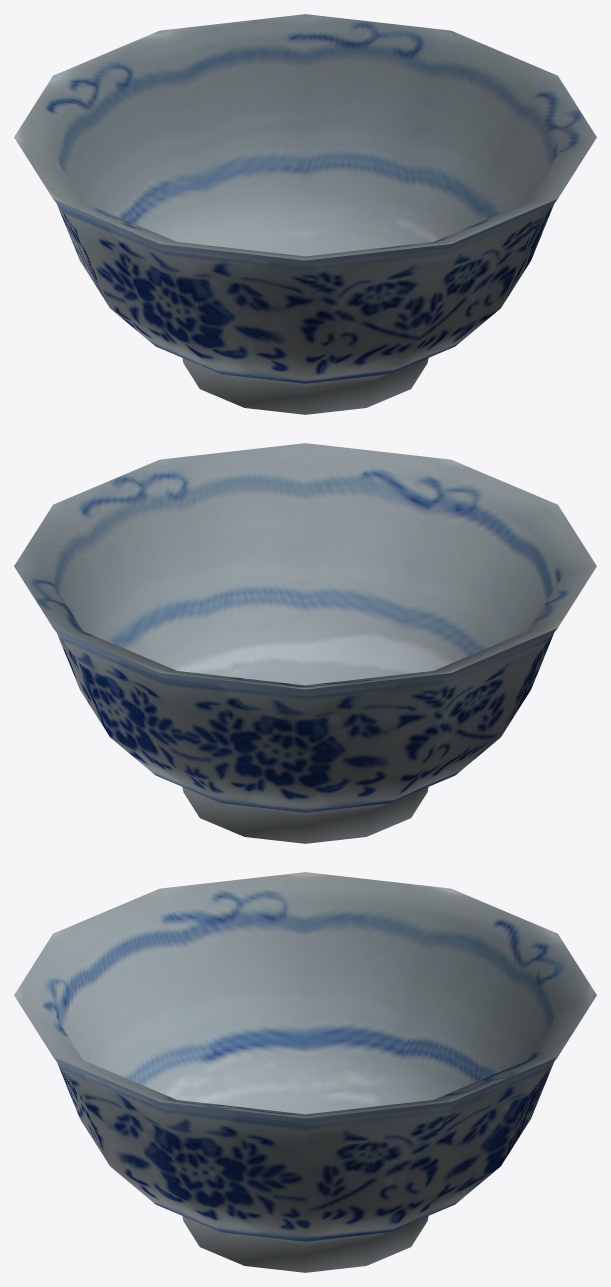
Rendered from bowl-2.FBX.
The picture shows the model from 3 angles, top to bottom: view 1: azimuth 30°, elevation 25°; view 2: azimuth 150°, elevation 25°; view 3: azimuth 270°, elevation 25°; orthographic projection.
Parts seen in each view (by area): view 1: bowl-2_LOD0; view 2: bowl-2_LOD0; view 3: bowl-2_LOD0.
Part boxes in pixels (x1,y1,x2,y2): bowl-2_LOD0: (14,14,596,414); bowl-2_LOD0: (14,443,596,843); bowl-2_LOD0: (14,872,596,1272).
Size of what is drawn, in the model's own units: 10.26 by 4.39 by 10.26.
